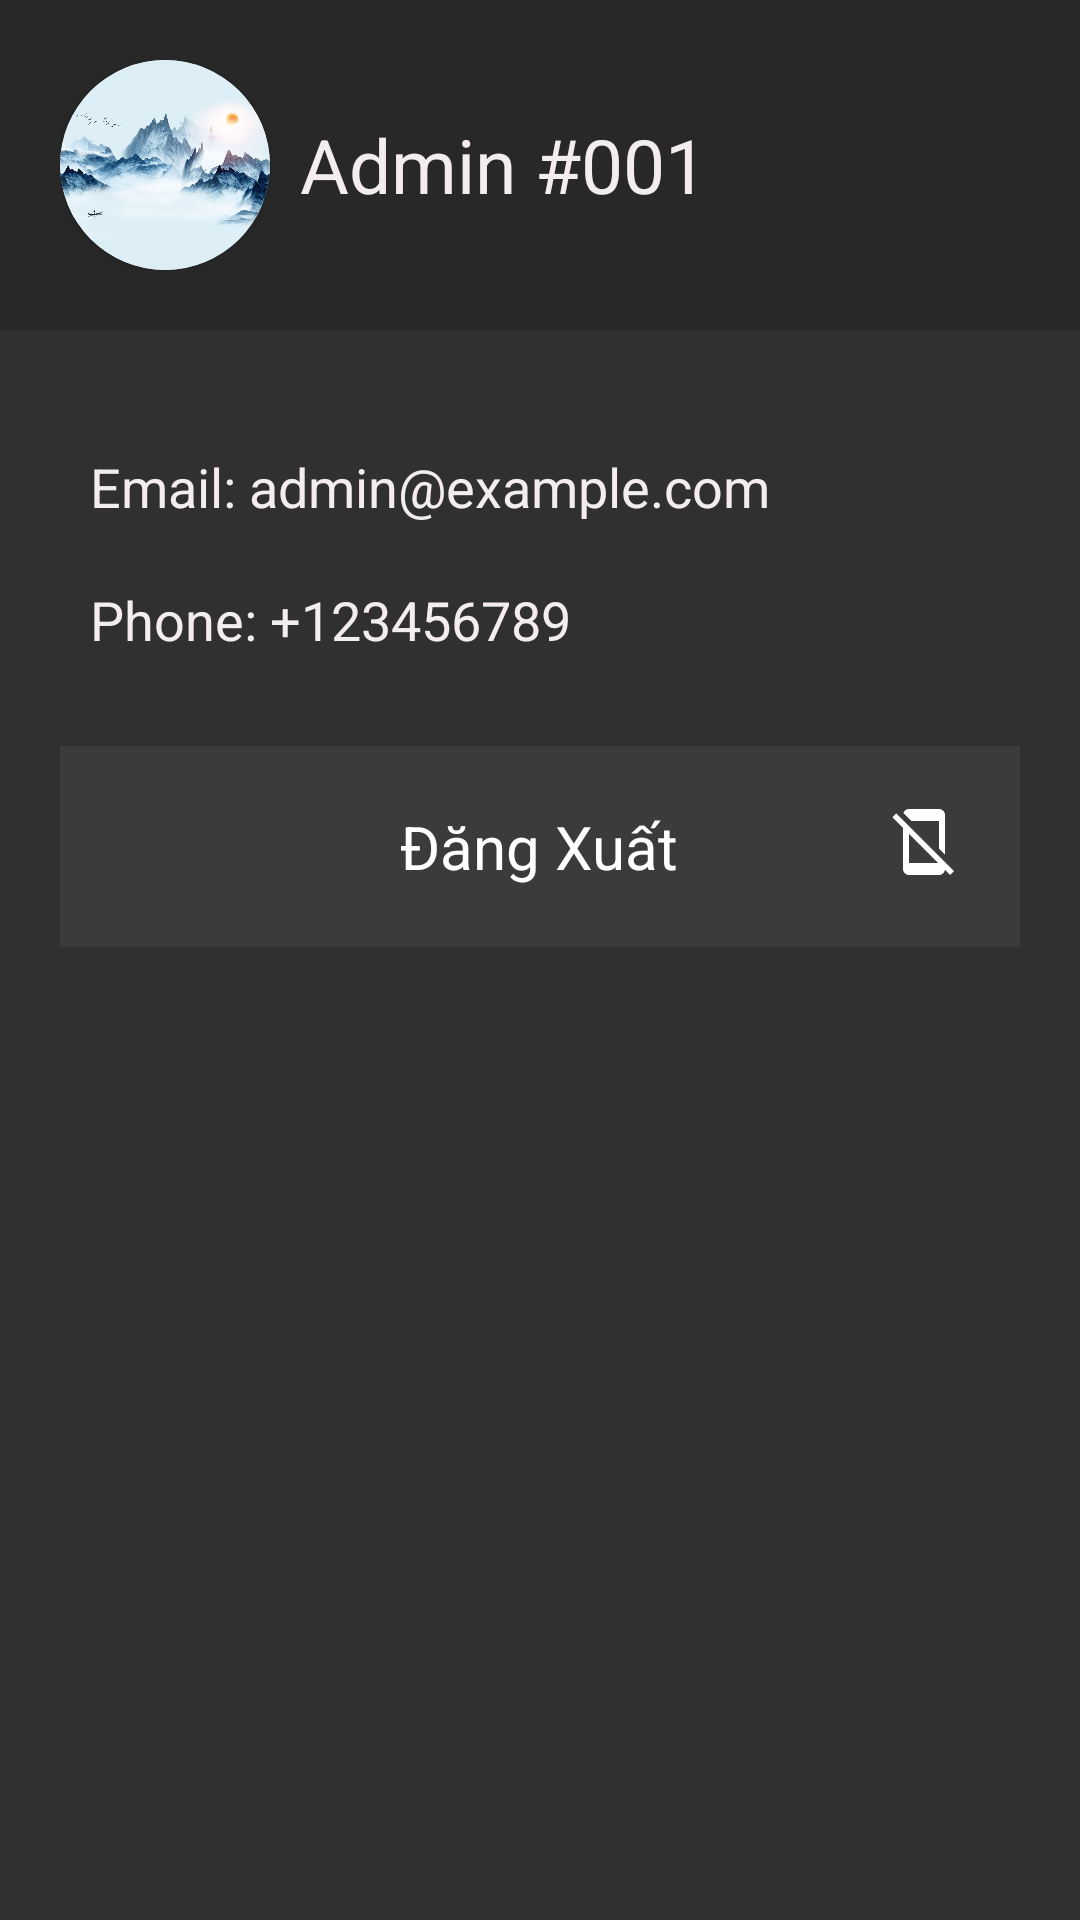

Named icons in this screenshot (1080*1920) and their centers, point (x, y):
turnoff: point (923, 842)
